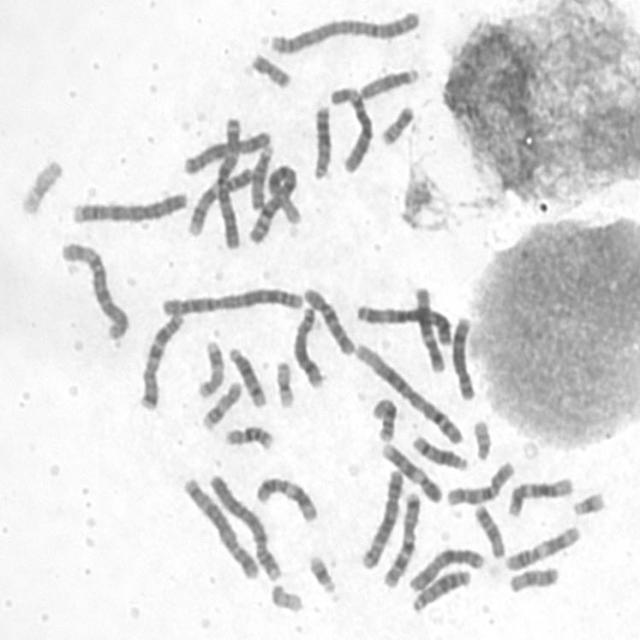A1: (350, 338, 465, 446), (244, 159, 303, 246)
A2: (266, 4, 424, 56), (156, 282, 306, 318)
A3: (352, 298, 456, 348), (213, 110, 244, 252)
B4: (205, 469, 284, 583), (67, 186, 190, 226)
B5: (179, 473, 262, 582), (357, 464, 406, 571)
C10: (300, 282, 356, 358), (442, 456, 518, 508)
C11: (501, 522, 584, 573), (252, 472, 320, 524)
C12: (410, 282, 447, 374), (504, 472, 576, 519)
C6: (57, 237, 132, 342), (326, 82, 375, 175)
C7: (135, 308, 187, 413), (380, 486, 423, 590)
C8: (288, 302, 326, 389), (448, 311, 477, 402)
C9: (184, 162, 256, 237), (377, 439, 443, 505)
D13: (409, 564, 473, 615), (308, 100, 334, 182)
D14: (224, 343, 268, 409), (408, 431, 470, 472)
D15: (356, 63, 422, 102), (246, 140, 276, 213)
E16: (221, 420, 276, 452), (368, 393, 399, 444)
E17: (198, 376, 244, 432), (194, 336, 226, 400)
E18: (470, 500, 508, 560), (506, 562, 561, 596)
F19: (16, 154, 64, 216), (272, 355, 296, 410)
F20: (247, 48, 293, 90), (377, 101, 416, 147)
G21: (305, 550, 339, 597), (568, 487, 607, 518)
G22: (266, 580, 306, 614), (469, 415, 494, 462)
X: (179, 125, 273, 176), (404, 543, 486, 594)
